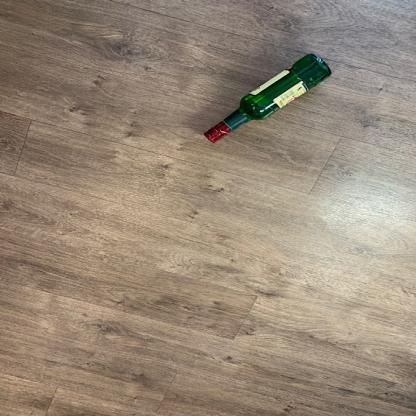trash: (199, 52, 338, 146)
